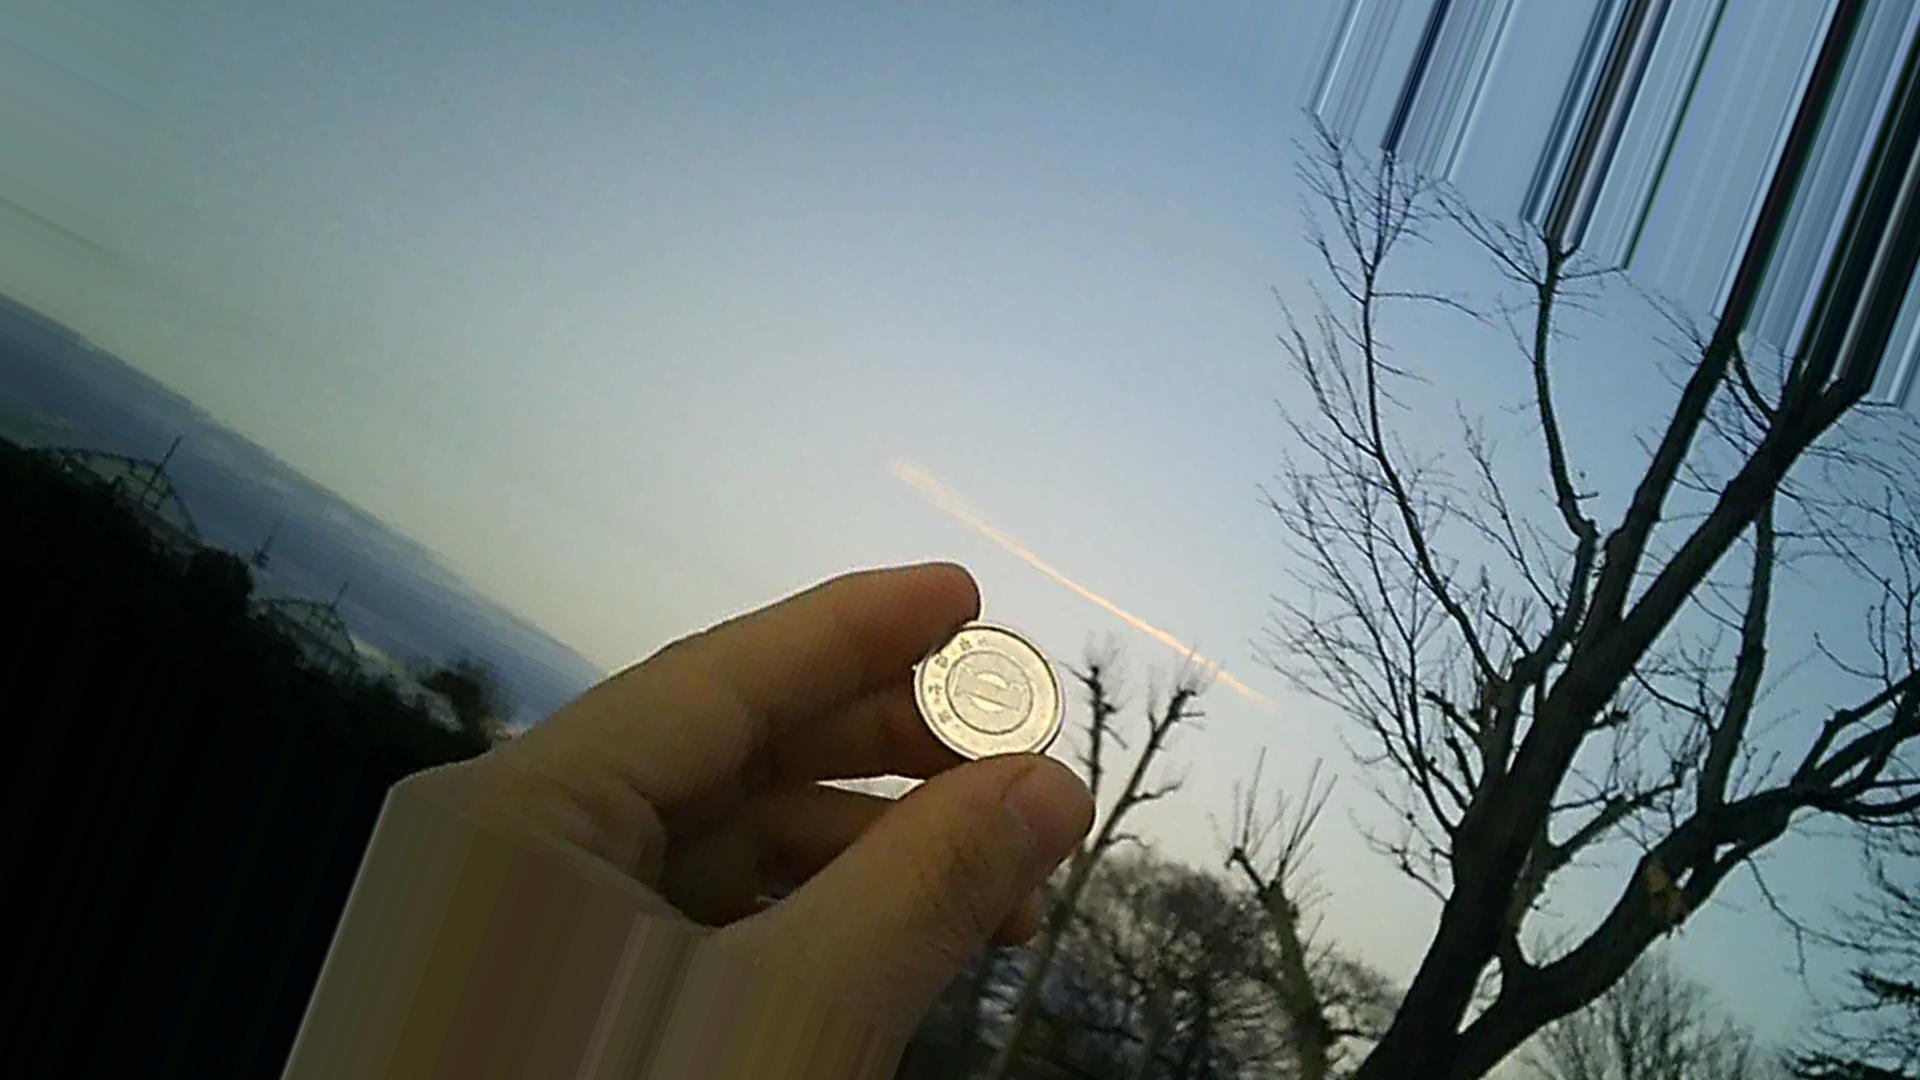1 Yen: (913, 616, 1075, 774)
